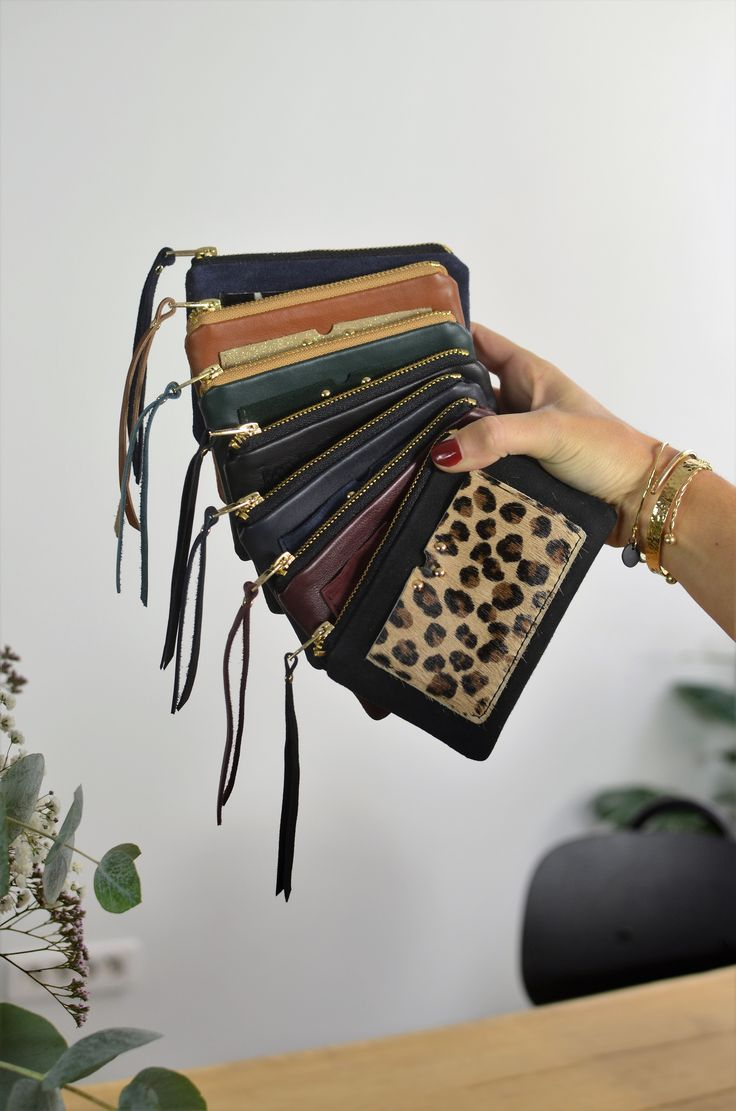cuero: (182, 239, 621, 762)
